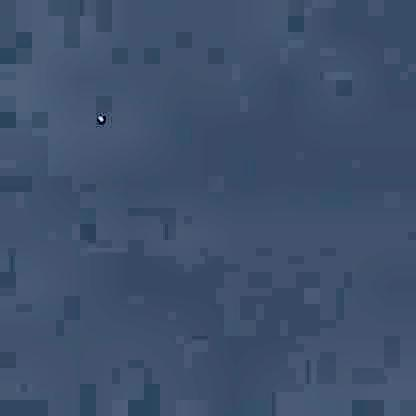golfball: (94, 112, 104, 122)
